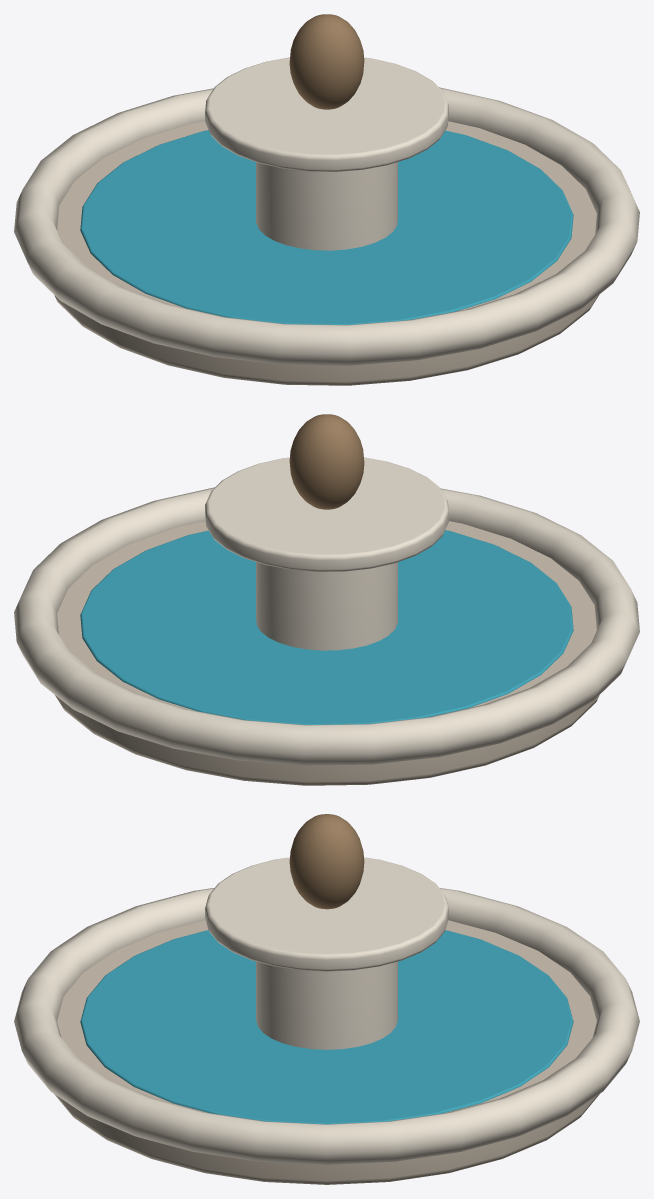
Rendered from fountain_central_lod1_v2.glb.
The picture shows the model from 3 angles, top to bottom: view 1: azimuth 30°, elevation 25°; view 2: azimuth 150°, elevation 25°; view 3: azimuth 270°, elevation 25°; orthographic projection.
Parts seen in each view (by area): view 1: LOD1_FOUNTAIN_CENTRAL_Water, LOD1_FOUNTAIN_CENTRAL_SeatRing, LOD1_FOUNTAIN_CENTRAL_UpperBowl, LOD1_FOUNTAIN_CENTRAL_Basin, LOD1_FOUNTAIN_CENTRAL_Pedestal, LOD1_FOUNTAIN_CENTRAL_Finial; view 2: LOD1_FOUNTAIN_CENTRAL_Water, LOD1_FOUNTAIN_CENTRAL_SeatRing, LOD1_FOUNTAIN_CENTRAL_UpperBowl, LOD1_FOUNTAIN_CENTRAL_Basin, LOD1_FOUNTAIN_CENTRAL_Pedestal, LOD1_FOUNTAIN_CENTRAL_Finial; view 3: LOD1_FOUNTAIN_CENTRAL_Water, LOD1_FOUNTAIN_CENTRAL_SeatRing, LOD1_FOUNTAIN_CENTRAL_UpperBowl, LOD1_FOUNTAIN_CENTRAL_Basin, LOD1_FOUNTAIN_CENTRAL_Pedestal, LOD1_FOUNTAIN_CENTRAL_Finial.
Boxes of the visible parts, x1=… form: LOD1_FOUNTAIN_CENTRAL_Water: x1=80, y1=130, x2=573, y2=324; LOD1_FOUNTAIN_CENTRAL_SeatRing: x1=14, y1=87, x2=639, y2=365; LOD1_FOUNTAIN_CENTRAL_UpperBowl: x1=205, y1=57, x2=448, y2=171; LOD1_FOUNTAIN_CENTRAL_Basin: x1=54, y1=121, x2=598, y2=385; LOD1_FOUNTAIN_CENTRAL_Pedestal: x1=256, y1=162, x2=397, y2=250; LOD1_FOUNTAIN_CENTRAL_Finial: x1=289, y1=14, x2=364, y2=109; LOD1_FOUNTAIN_CENTRAL_Water: x1=80, y1=530, x2=573, y2=724; LOD1_FOUNTAIN_CENTRAL_SeatRing: x1=14, y1=487, x2=639, y2=765; LOD1_FOUNTAIN_CENTRAL_UpperBowl: x1=205, y1=457, x2=448, y2=571; LOD1_FOUNTAIN_CENTRAL_Basin: x1=55, y1=521, x2=599, y2=785; LOD1_FOUNTAIN_CENTRAL_Pedestal: x1=256, y1=562, x2=397, y2=650; LOD1_FOUNTAIN_CENTRAL_Finial: x1=289, y1=414, x2=364, y2=509; LOD1_FOUNTAIN_CENTRAL_Water: x1=80, y1=930, x2=573, y2=1124; LOD1_FOUNTAIN_CENTRAL_SeatRing: x1=14, y1=888, x2=639, y2=1164; LOD1_FOUNTAIN_CENTRAL_UpperBowl: x1=205, y1=857, x2=448, y2=971; LOD1_FOUNTAIN_CENTRAL_Basin: x1=54, y1=920, x2=599, y2=1184; LOD1_FOUNTAIN_CENTRAL_Pedestal: x1=256, y1=961, x2=397, y2=1049; LOD1_FOUNTAIN_CENTRAL_Finial: x1=289, y1=814, x2=364, y2=909.
Size of what is drawn, in the model's own units: 11.04 by 4.9 by 11.04.
